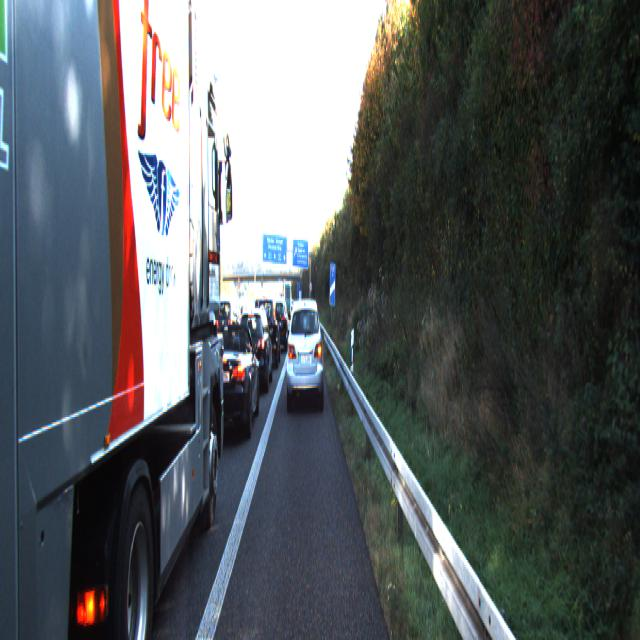Car: (13, 0, 226, 639), (200, 322, 260, 448), (286, 295, 324, 411), (235, 305, 273, 393), (254, 297, 281, 372), (213, 299, 240, 360), (268, 299, 288, 355)
